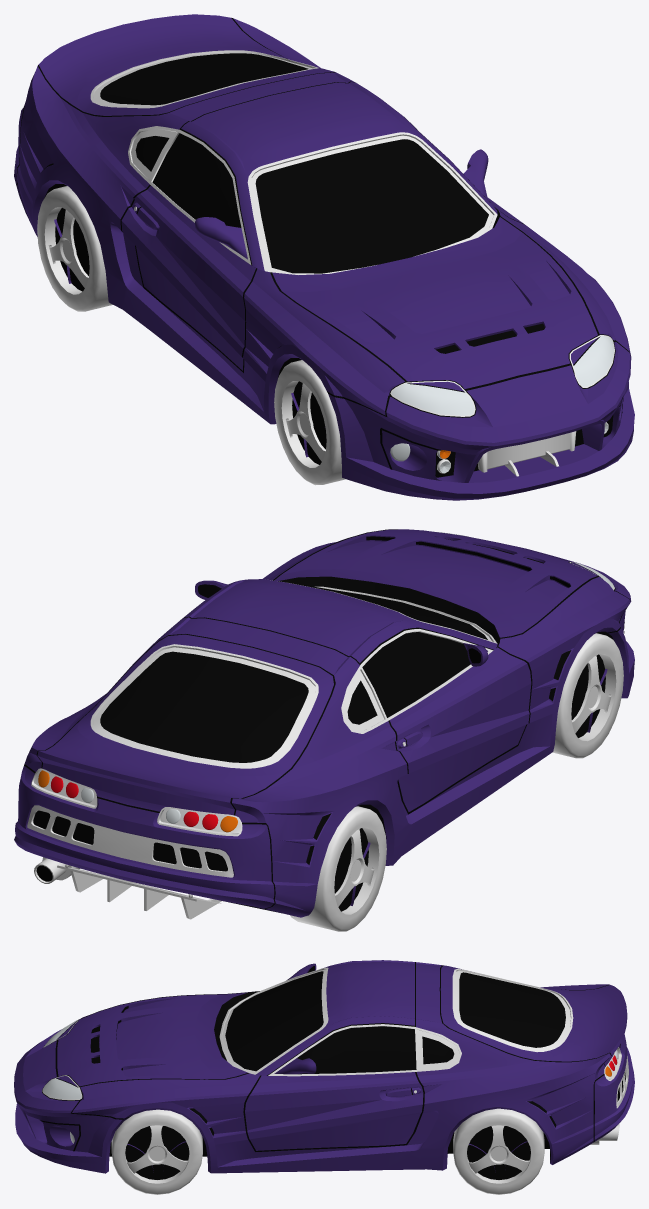
Rendered from car.glb.
3 views of the same model, one above another, from view 1: azimuth 30°, elevation 25°; view 2: azimuth 150°, elevation 25°; view 3: azimuth 270°, elevation 25° (orthographic). The views are drawn at different scales.
Parts seen in each view (by area): view 1: car_abflug.001; view 2: car_abflug.001, Plane.003; view 3: car_abflug.001.
Part boxes in pixels (x1,y1,x2,y2): car_abflug.001: [14, 14, 634, 500]; car_abflug.001: [14, 529, 634, 931]; Plane.003: [34, 857, 80, 883]; car_abflug.001: [14, 960, 634, 1194].
Size of the model in its own units: 1.71 by 1.24 by 4.35.
